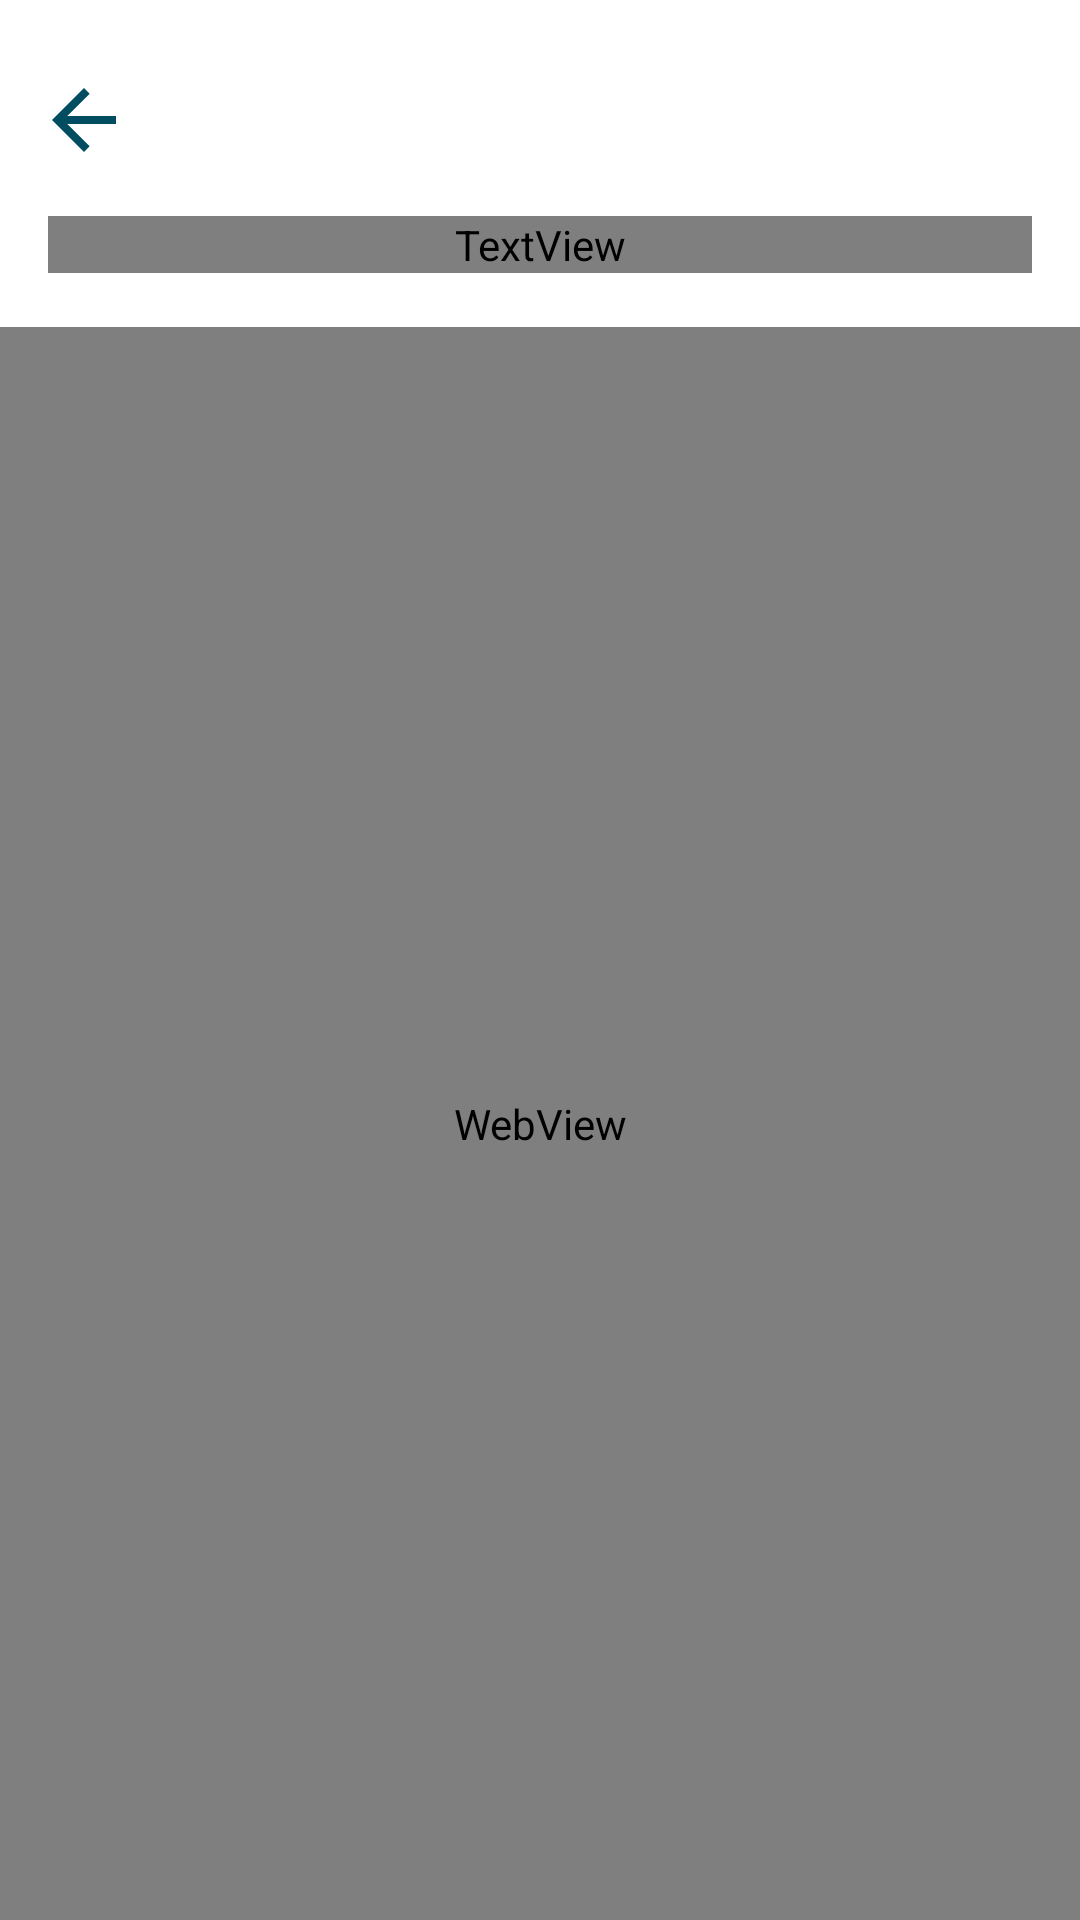

Screen size 1080 × 1920. Icon name, then its center in pixels as (x,y):
arrow back: (84,120)
